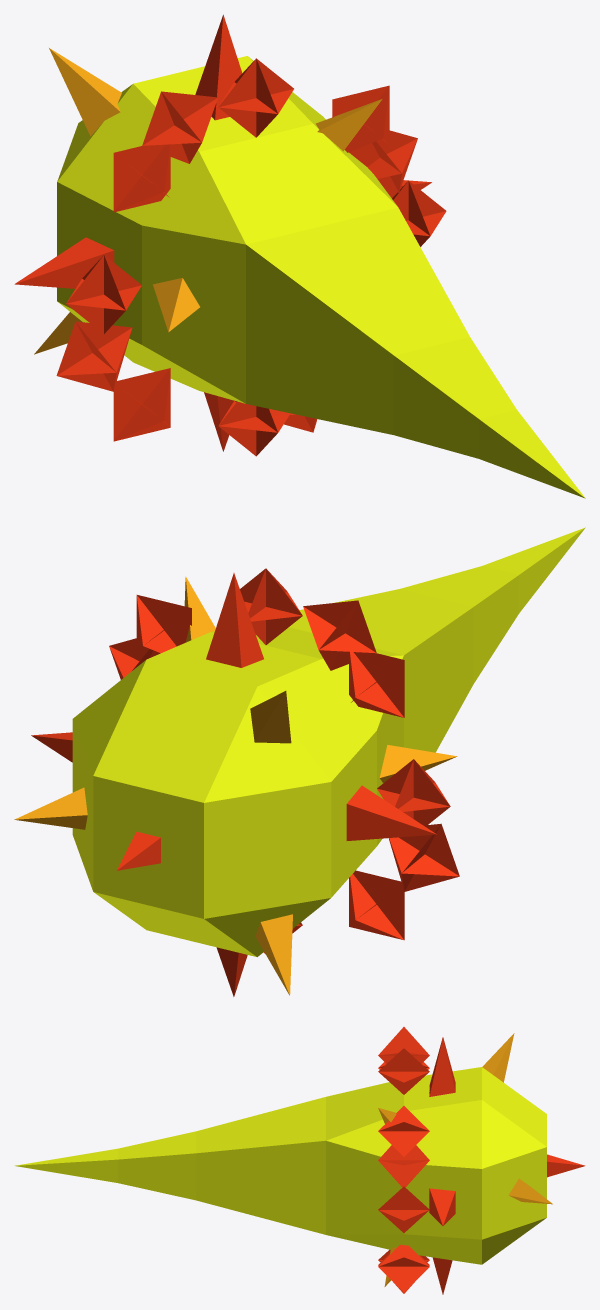
Rendered from gfx_127.obj.
3 views of the same model, one above another, from view 1: azimuth 30°, elevation 25°; view 2: azimuth 150°, elevation 25°; view 3: azimuth 270°, elevation 25° (orthographic). The views are drawn at different scales.
Bounding box in the file's own units: 0.3438 × 0.3438 × 0.6875.
